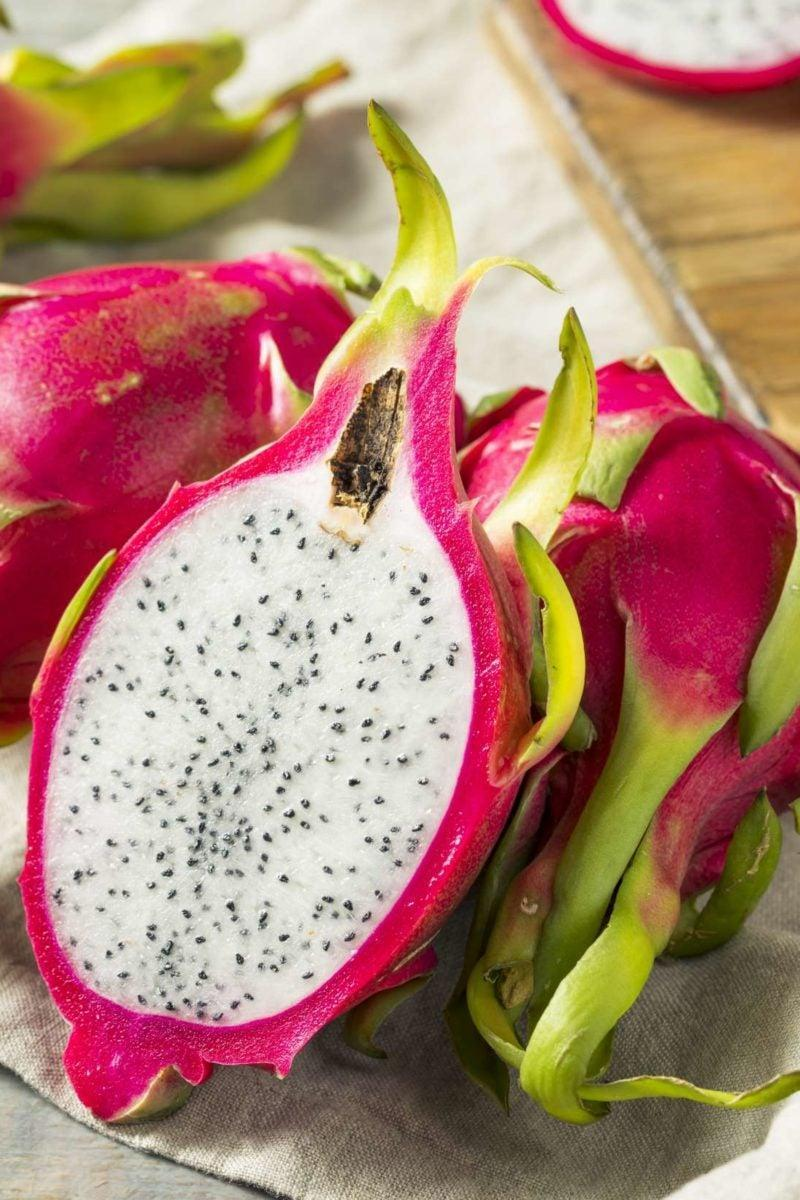dragon-fruit: (10, 467, 493, 1070), (470, 340, 800, 933), (0, 247, 360, 733), (540, 3, 800, 97), (0, 53, 67, 243)
